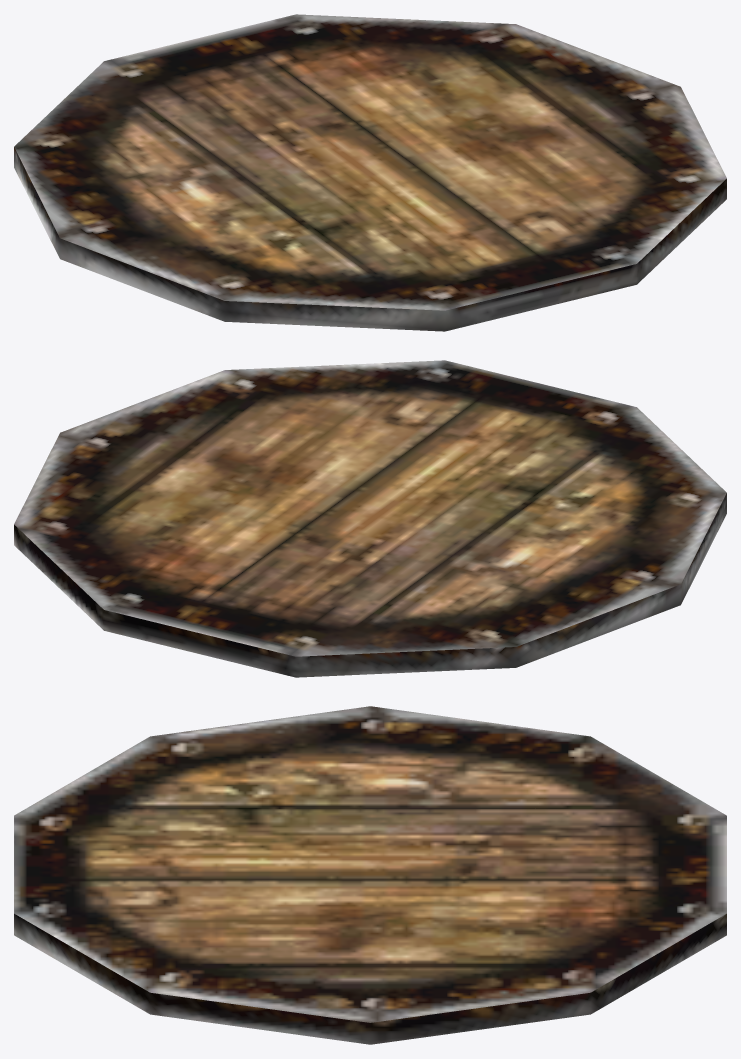
3 views of the same model, one above another, from view 1: azimuth 30°, elevation 25°; view 2: azimuth 150°, elevation 25°; view 3: azimuth 270°, elevation 25° (orthographic). The views are drawn at different scales.
Visible parts, largest first — view 1: ms6-col; view 2: ms6-col; view 3: ms6-col.
Boxes of the visible parts, bbox=[...] form: ms6-col: bbox=[14, 14, 726, 331]; ms6-col: bbox=[14, 360, 726, 677]; ms6-col: bbox=[14, 706, 726, 1044].
Size of the model in its own units: 0.5224 by 0.0786 by 0.4968.
Materials: 1 (1 with a texture image).
